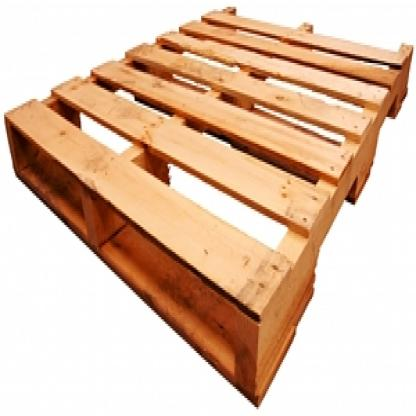BoxFace: (7, 11, 412, 416)
